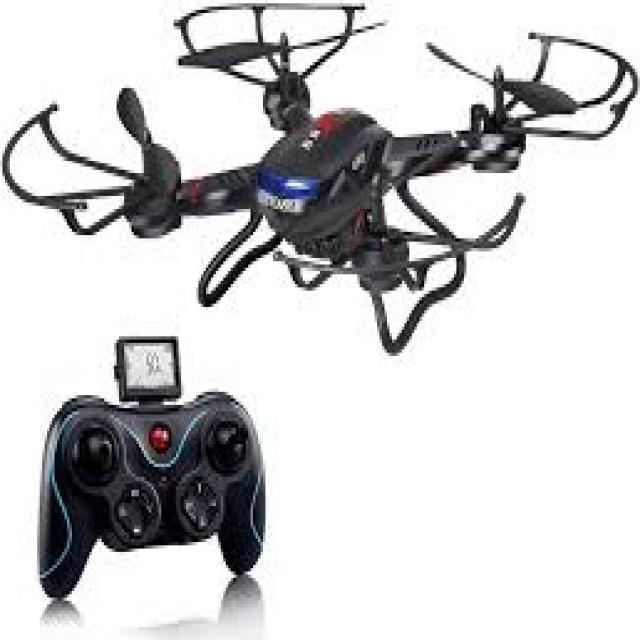drone: (0, 0, 640, 360)
